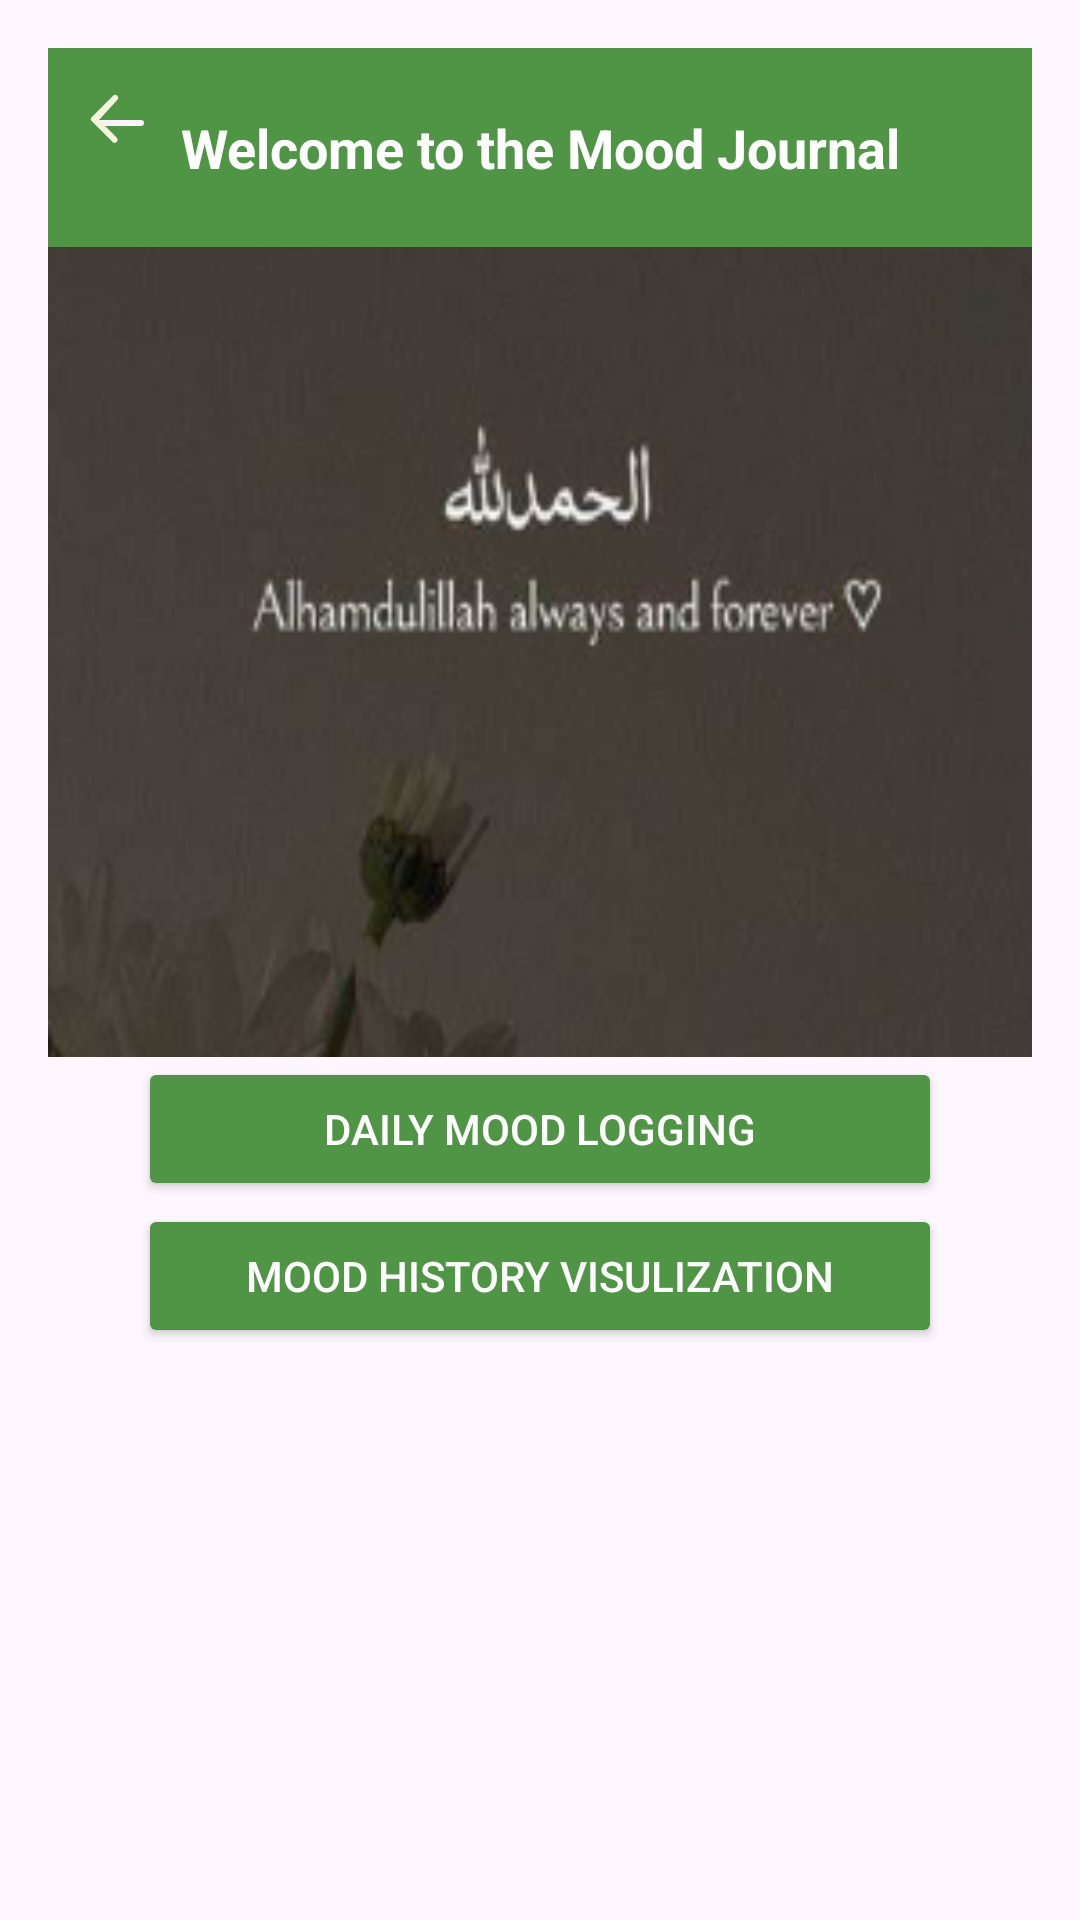

Icons on this 1080×1920 Android screen, each with the point to tap as [x,y]:
Back: [117,118]
